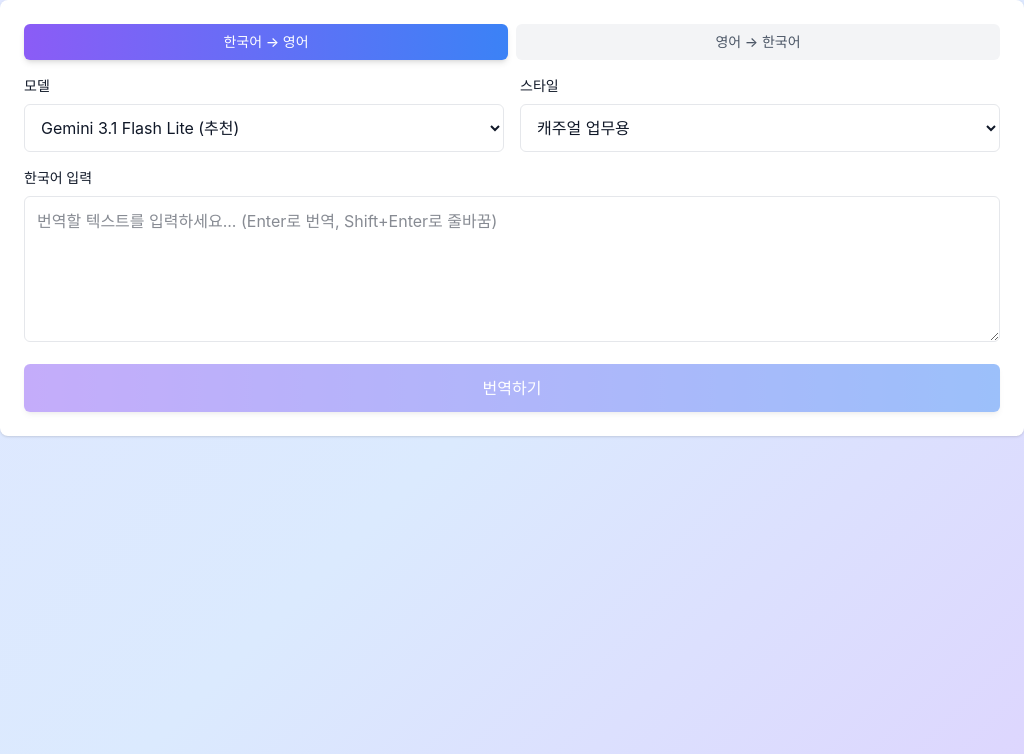
Test case: HomePage similar suggestions (W6) › translates immediately and offers similar past translations (no blocking modal)
Type "이 코드 봐줄래" into the text box with placeholder "번역할 텍스트를 입력하세요... (Enter로 번역, Shift+Enter로 줄바꿈)" at (512, 269), box left=24, top=196, right=1000, bottom=342
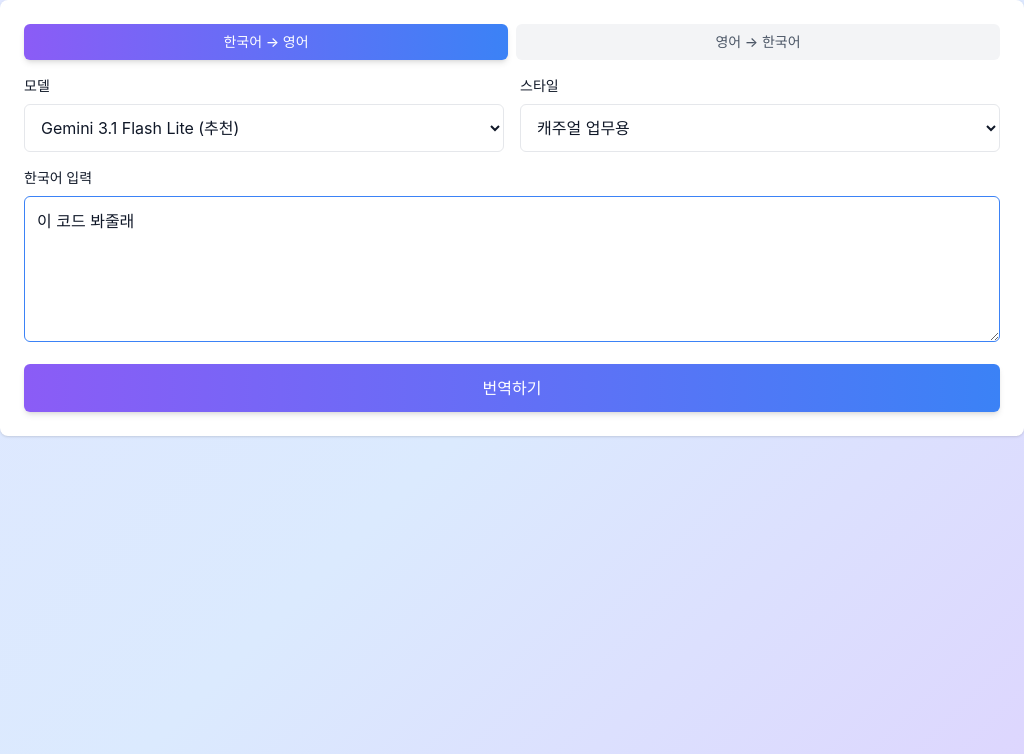
Press Enter
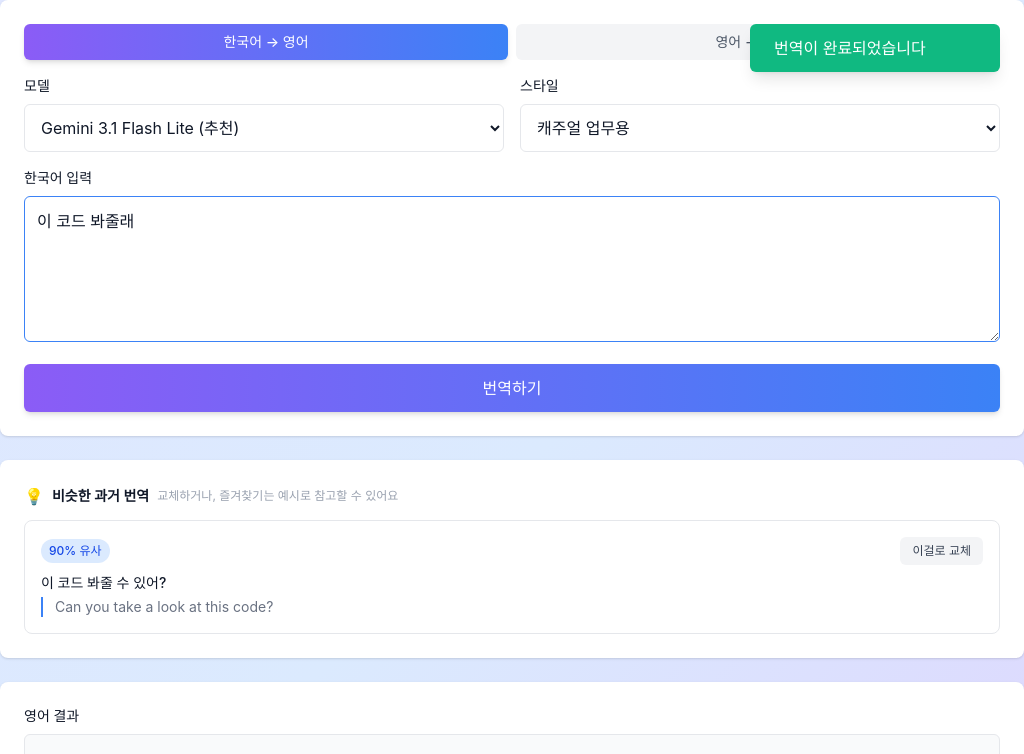
Expected: the text "Can you take a look at this code?" is shown, left=41, top=597, right=983, bottom=617
Expected: the button "이걸로 교체" is shown, left=900, top=537, right=983, bottom=565
